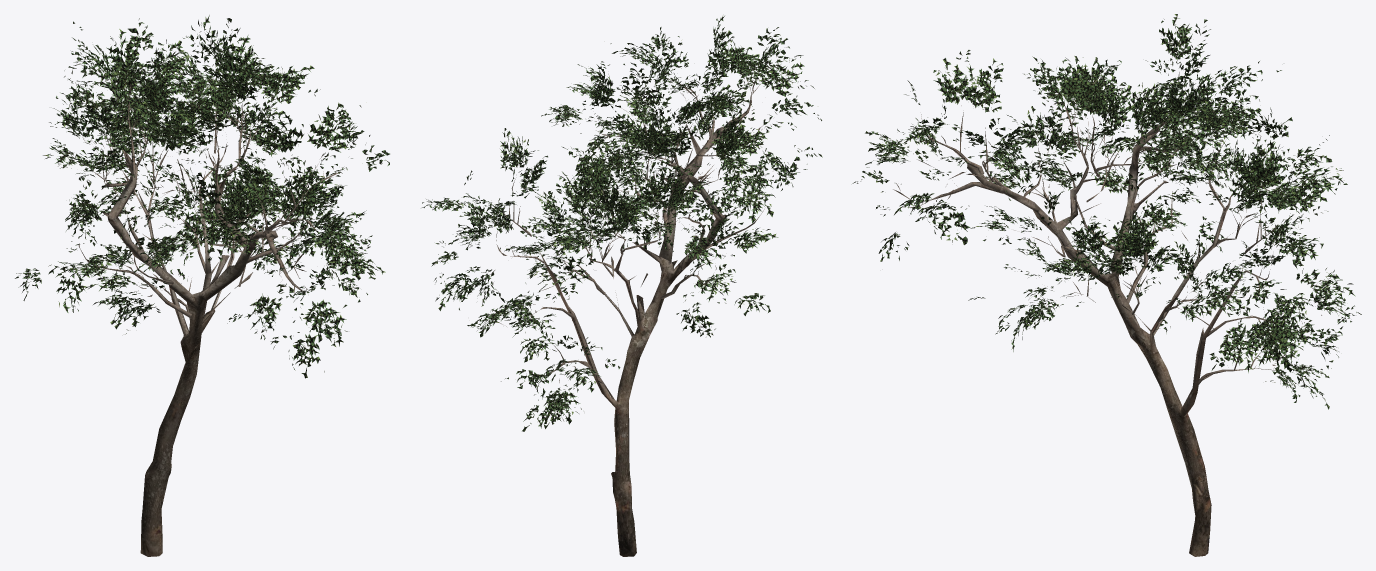
The model's file is tree_small_02.glb.
3 renders of one model, left to right at view 1: azimuth 30°, elevation 25°; view 2: azimuth 150°, elevation 25°; view 3: azimuth 270°, elevation 25°, orthographic. The views are drawn at different scales.
Visible parts, largest first — view 1: tree_small_02_LOD0; view 2: tree_small_02_LOD0; view 3: tree_small_02_LOD0.
Part boxes in pixels (bbox=[...]): tree_small_02_LOD0: bbox=[15, 15, 389, 556]; tree_small_02_LOD0: bbox=[422, 16, 822, 556]; tree_small_02_LOD0: bbox=[852, 14, 1361, 556].
Bounding box in the file's own units: 2.88 × 4.55 × 4.2.
Materials: 3 (3 with a texture image).
